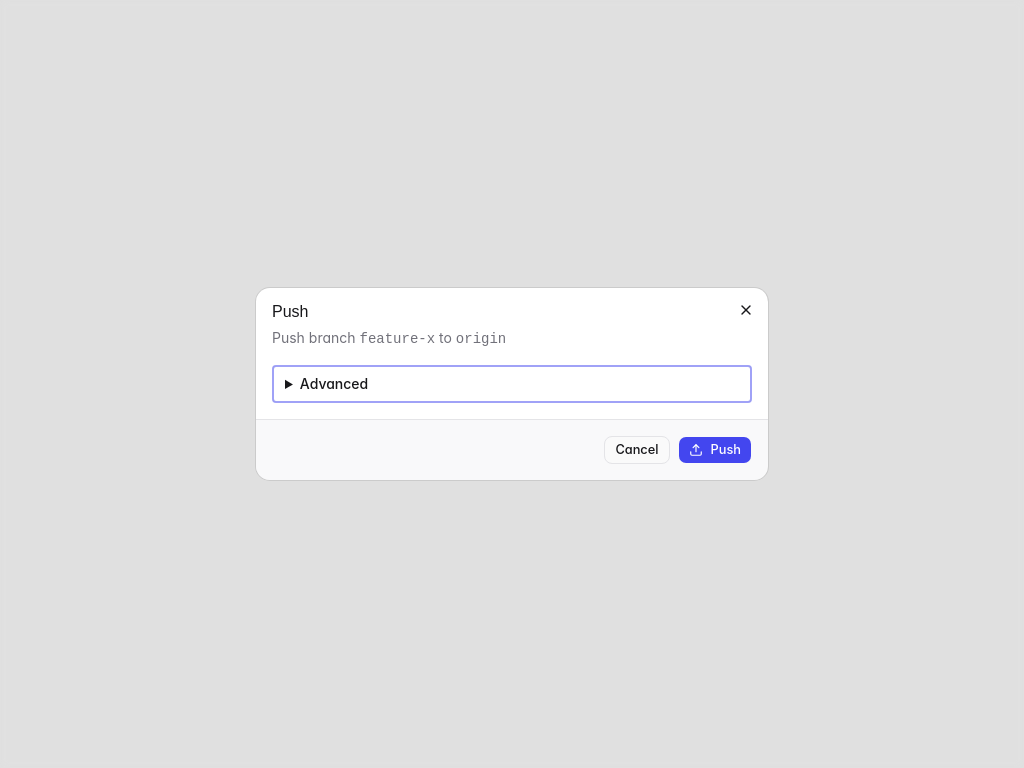
GitPushDialog — force-push literal gate › re-disables the Force push button after the input is cleared
Click the heading with test id "git-push-dialog-advanced-toggle". click: (334, 384)
box: [300, 375, 368, 392]
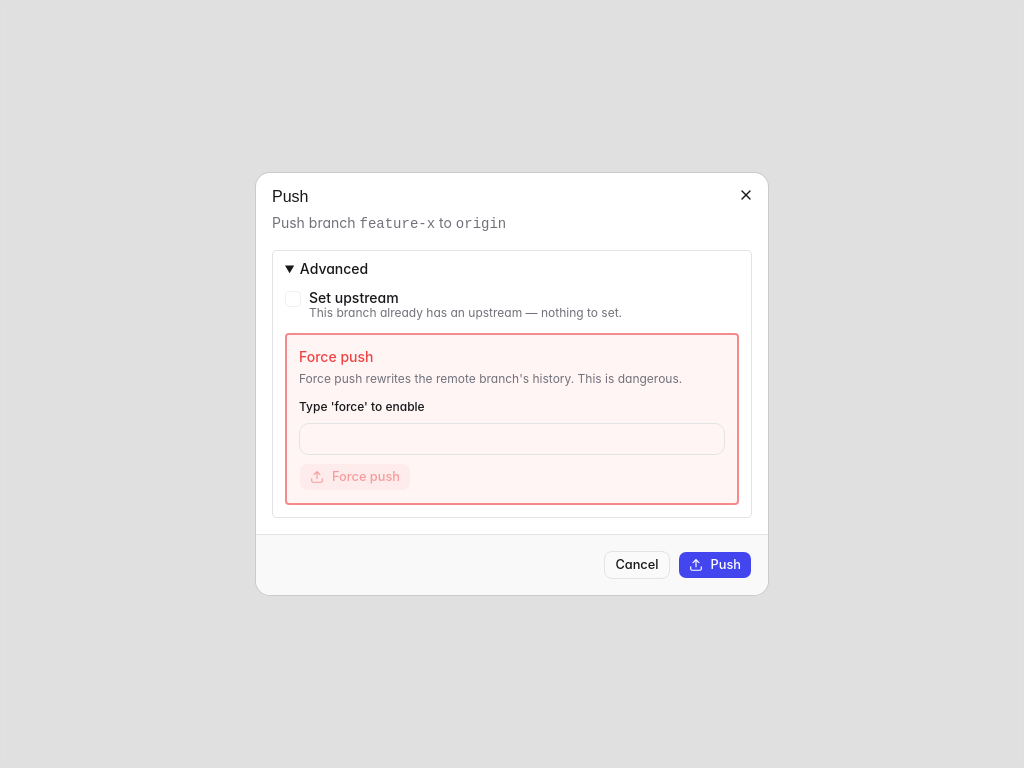
Type "force" into the field with test id "git-push-dialog-force-input". click: (512, 439)
box: [299, 423, 725, 455]
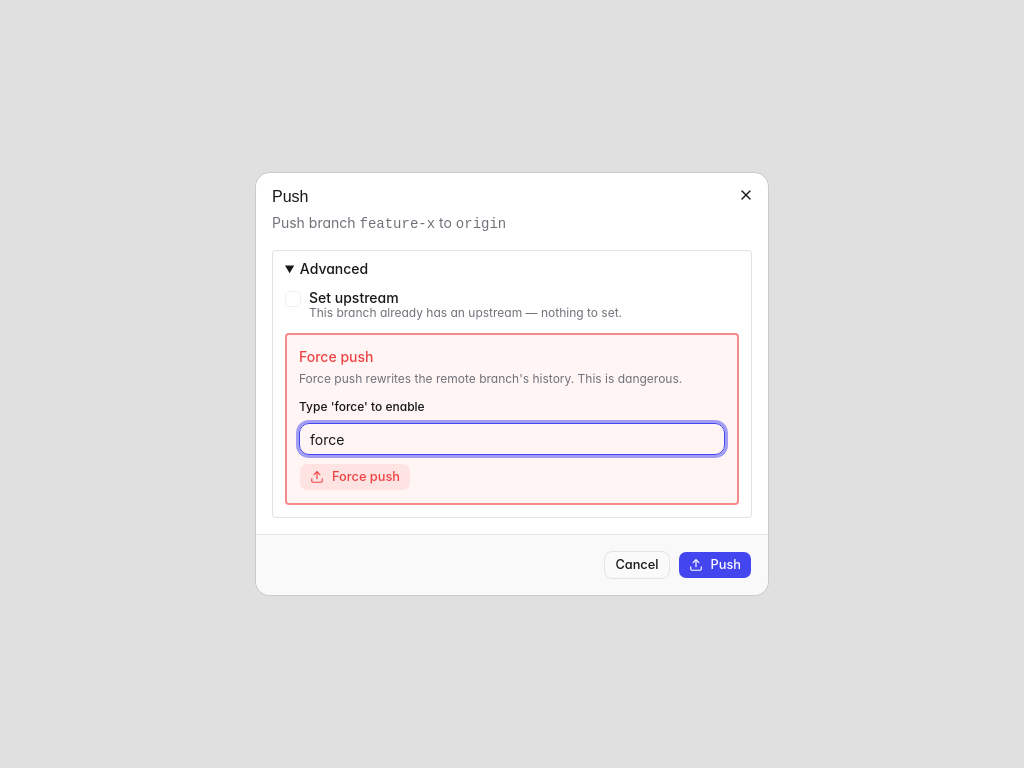
Check: the button with test id "git-push-dialog-force-submit" is enabled, box [299, 463, 411, 491]
Clear the field with test id "git-push-dialog-force-input". click: (512, 439)
box: [299, 423, 725, 455]
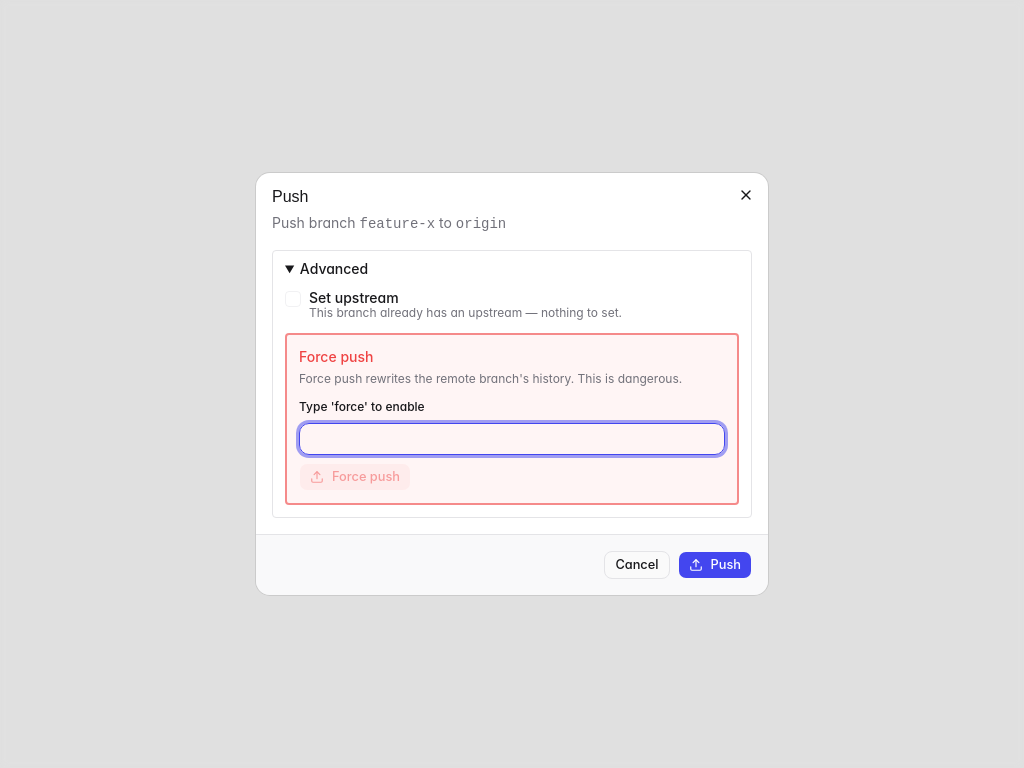
Check: the button with test id "git-push-dialog-force-submit" is disabled, box [299, 463, 411, 491]
